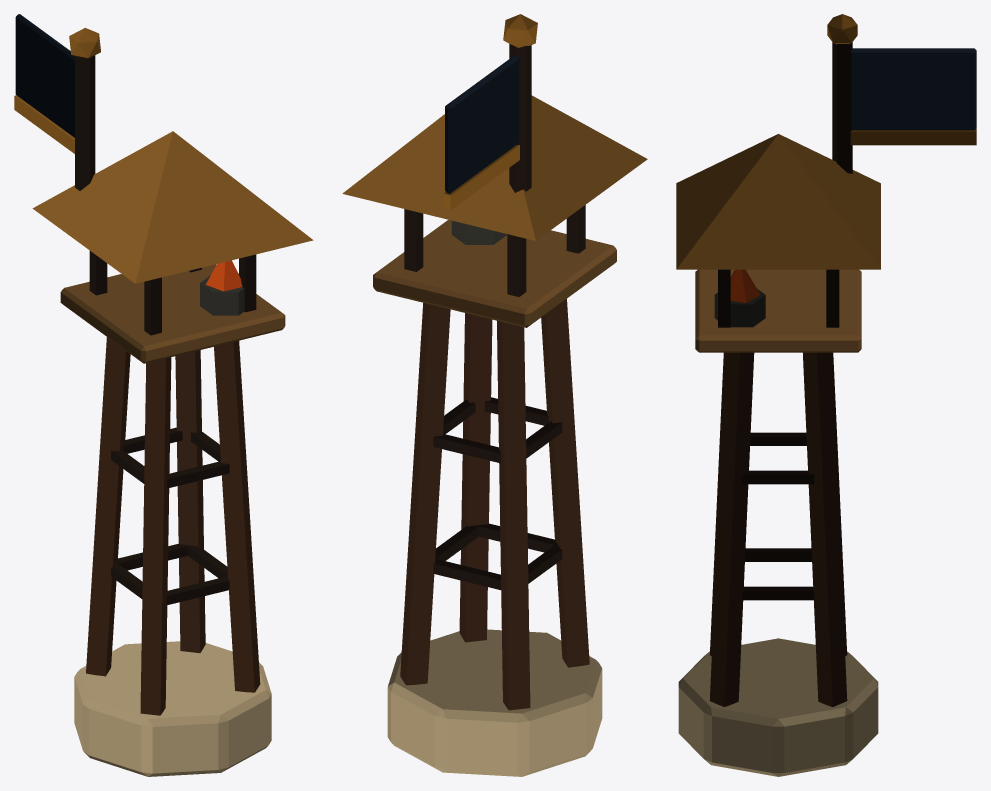
Rendered from watchtower.obj.
3 views of the same model, side by side, from view 1: azimuth 30°, elevation 25°; view 2: azimuth 150°, elevation 25°; view 3: azimuth 270°, elevation 25° (orthographic). The views are drawn at different scales.
Parts seen in each view (by area): view 1: core_wood, core_thatch, core_stone, core_plank, core_wood_dark, core_team, core_gold, core_metal_dark, core_fire; view 2: core_wood, core_stone, core_thatch, core_plank, core_wood_dark, core_team, core_gold, core_metal_dark; view 3: core_thatch, core_wood, core_stone, core_plank, core_team, core_wood_dark, core_gold, core_metal_dark, core_fire.
Part boxes in pixels (box(x1,y1,x2,y2)): core_wood: box(86, 337, 260, 715); core_thatch: box(32, 131, 313, 283); core_stone: box(74, 641, 271, 776); core_plank: box(60, 264, 285, 363); core_wood_dark: box(75, 55, 256, 605); core_team: box(15, 14, 74, 137); core_gold: box(14, 28, 100, 153); core_metal_dark: box(200, 273, 244, 315); core_fire: box(206, 260, 242, 291); core_wood: box(400, 299, 589, 710); core_stone: box(387, 629, 602, 776); core_thatch: box(342, 95, 647, 240); core_plank: box(373, 220, 616, 327); core_wood_dark: box(404, 44, 585, 590); core_team: box(445, 55, 519, 193); core_gold: box(443, 14, 537, 210); core_metal_dark: box(451, 220, 507, 244); core_thatch: box(676, 134, 880, 269); core_wood: box(709, 352, 847, 706); core_stone: box(678, 638, 878, 776); core_plank: box(695, 269, 861, 352); core_team: box(851, 48, 976, 130); core_wood_dark: box(718, 42, 852, 600); core_gold: box(827, 14, 976, 145); core_metal_dark: box(714, 289, 765, 327); core_fire: box(730, 269, 760, 302).
Bounding box in the file's own units: 0.16 × 0.6 × 0.235.
